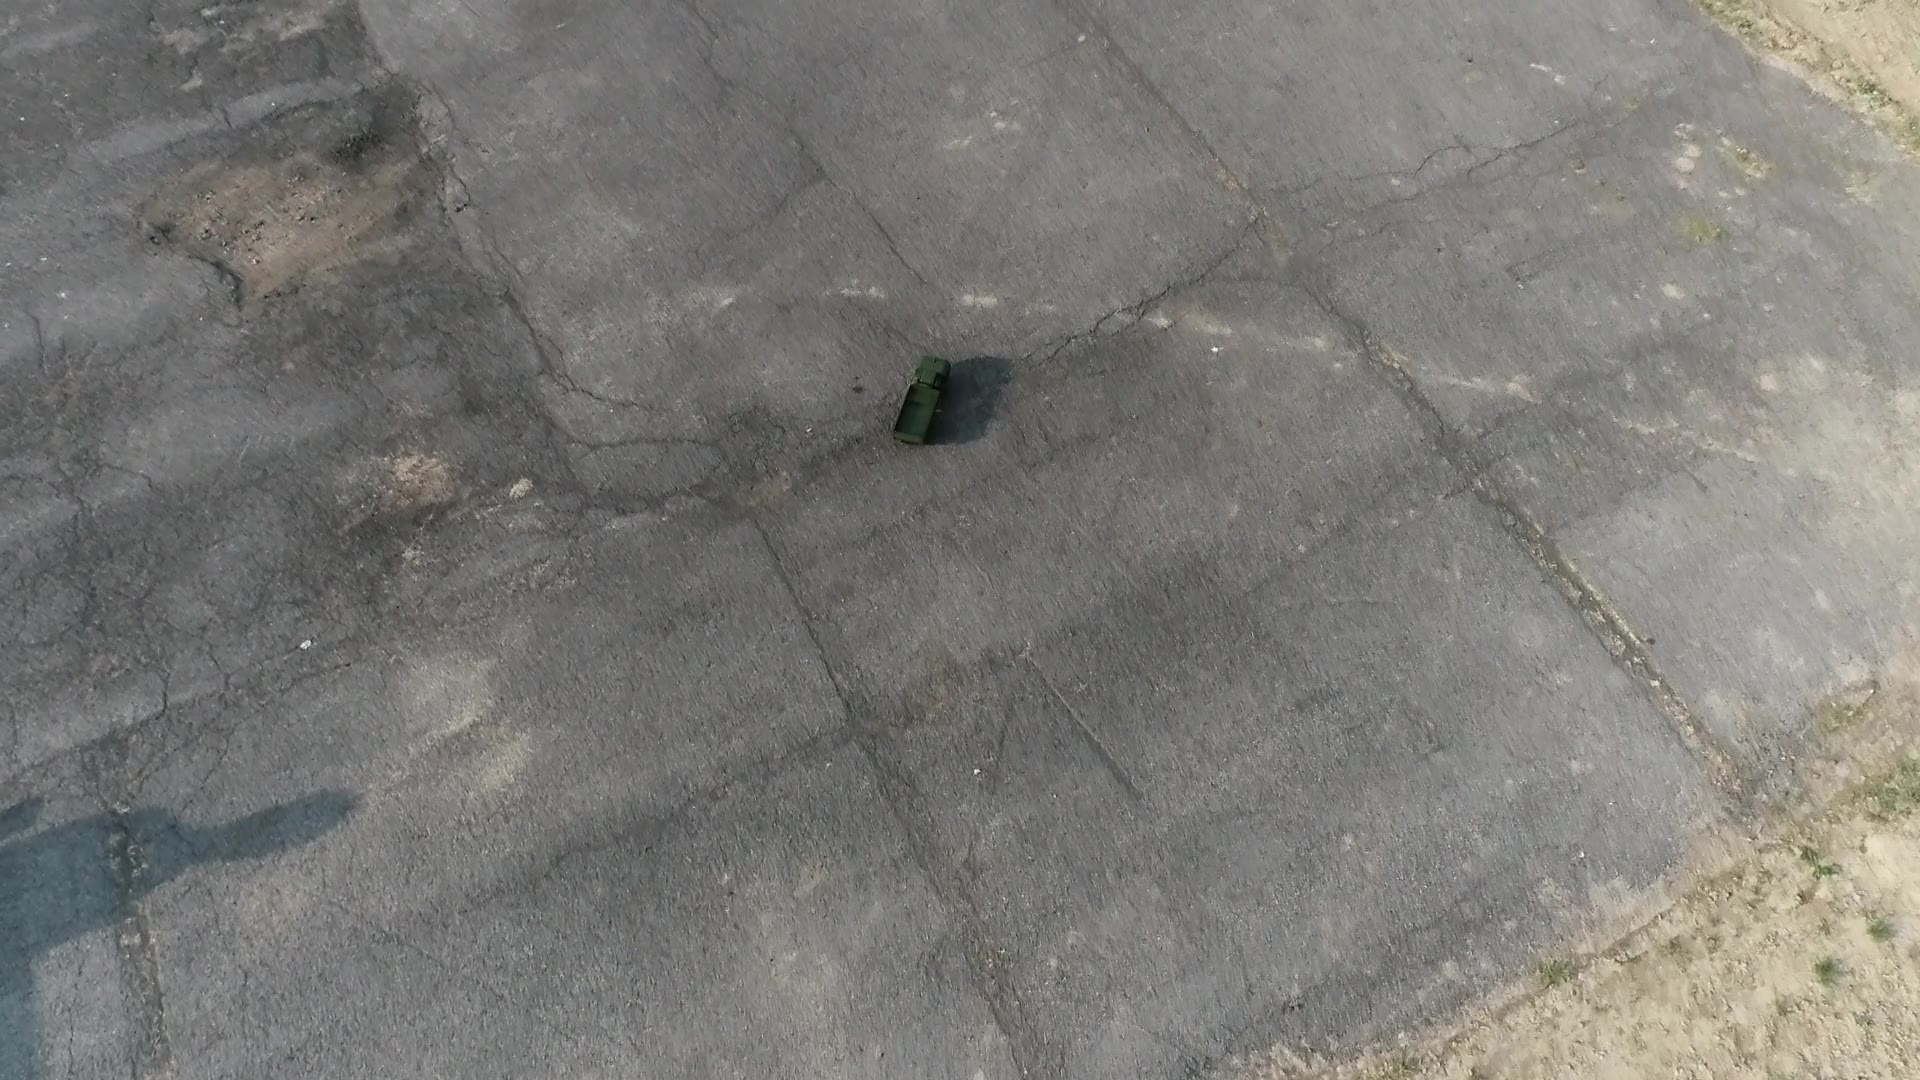transporter9: (887, 349, 956, 450)
